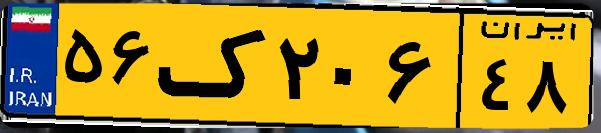0: (330, 28, 385, 110)
2: (270, 28, 330, 110)
4: (475, 38, 525, 113)
5: (57, 26, 110, 100)
6: (385, 28, 445, 110), (110, 28, 158, 98)
8: (525, 38, 570, 115)
ک: (158, 12, 270, 120)
